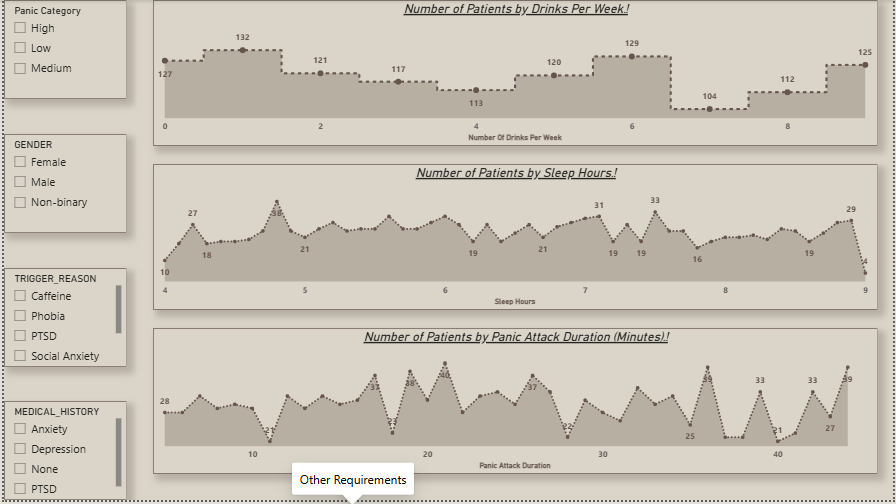

What the dashboard file says about the page in this screenshot:
{"tool":"powerbi","page":{"name":"Other Requirements","canvas":[1280,720],"ordinal":2},"visuals":[{"type":"slicer","fields":{"Values":["PANIC_ATTACK_DATA.Panic Category"]},"box":[0,0,176.5,141.9],"z":0},{"type":"slicer","fields":{"Values":["PANIC_ATTACK_DATA.GENDER"]},"box":[0,192.7,176.5,141.9],"z":1000},{"type":"slicer","fields":{"Values":["PANIC_ATTACK_DATA.TRIGGER_REASON"]},"box":[0,385.4,176.5,141.9],"z":2000},{"type":"slicer","fields":{"Values":["PANIC_ATTACK_DATA.MEDICAL_HISTORY"]},"box":[0,578.1,176.5,141.9],"z":3000},{"type":"areaChart","title":"Number of Patients by Drinks Per Week.!","fields":{"Category":["PANIC_ATTACK_DATA.ALCOHOL_CONSUMPTION"],"Y":["CountNonNull(PANIC_ATTACK_DATA.ID)"]},"box":[214.6,0,1042.8,210.1],"z":4000},{"type":"areaChart","title":"Number of Patients by Sleep Hours.!","fields":{"Category":["PANIC_ATTACK_DATA.SLEEP_HOURS"],"Y":["CountNonNull(PANIC_ATTACK_DATA.ID)"]},"box":[214.6,236.3,1042.8,210.1],"z":5000},{"type":"areaChart","title":"Number of Patients by Panic Attack Duration (Minutes).!","fields":{"Y":["CountNonNull(PANIC_ATTACK_DATA.ID)"],"Category":["PANIC_ATTACK_DATA.DURATION_MINUTES"]},"box":[214.6,472.6,1042.8,210.1],"z":6000}]}

Visuals, with their boxes in screenshot pixels (x1, y1, x2, y2), scaled from the page's 1280x720 canvas onto the 896x504 screenshot:
slicer - PANIC_ATTACK_DATA.Panic Category: left=0, top=0, right=124, bottom=99
slicer - PANIC_ATTACK_DATA.GENDER: left=0, top=135, right=124, bottom=234
slicer - PANIC_ATTACK_DATA.TRIGGER_REASON: left=0, top=270, right=124, bottom=369
slicer - PANIC_ATTACK_DATA.MEDICAL_HISTORY: left=0, top=405, right=124, bottom=503
"Number of Patients by Drinks Per Week.!" areaChart: left=150, top=0, right=880, bottom=147
"Number of Patients by Sleep Hours.!" areaChart: left=150, top=165, right=880, bottom=312
"Number of Patients by Panic Attack Duration (Minutes).!" areaChart: left=150, top=331, right=880, bottom=478
